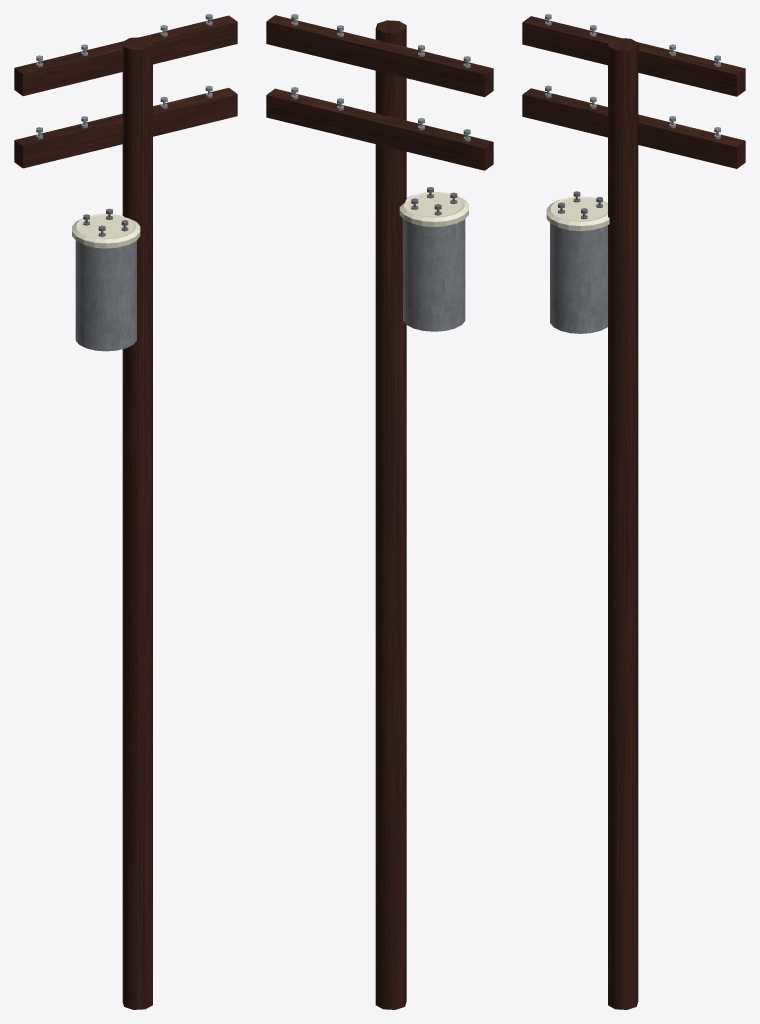
Rendered from Utility Pole.FBX.
3 views of the same model, side by side, from view 1: azimuth 30°, elevation 25°; view 2: azimuth 150°, elevation 25°; view 3: azimuth 330°, elevation 25° (orthographic).
Parts seen in each view (by area): view 1: Utility Pole, Crossarms, Transformer, Cable Mounts; view 2: Utility Pole, Crossarms, Transformer, Cable Mounts; view 3: Utility Pole, Crossarms, Transformer, Cable Mounts.
Boxes of the visible parts, box(x1,y1,x2,y2) form: Utility Pole: box(122, 37, 152, 1009); Crossarms: box(14, 15, 237, 168); Transformer: box(72, 208, 140, 351); Cable Mounts: box(36, 14, 212, 139); Utility Pole: box(375, 20, 406, 1009); Crossarms: box(266, 15, 493, 170); Transformer: box(399, 187, 468, 331); Cable Mounts: box(291, 14, 470, 141); Utility Pole: box(608, 38, 638, 1009); Crossarms: box(522, 16, 745, 168); Transformer: box(546, 191, 609, 333); Cable Mounts: box(545, 14, 720, 139).
Size of the model in its own units: 55.5 by 237 by 17.13.
Materials: 1 (1 with a texture image).
